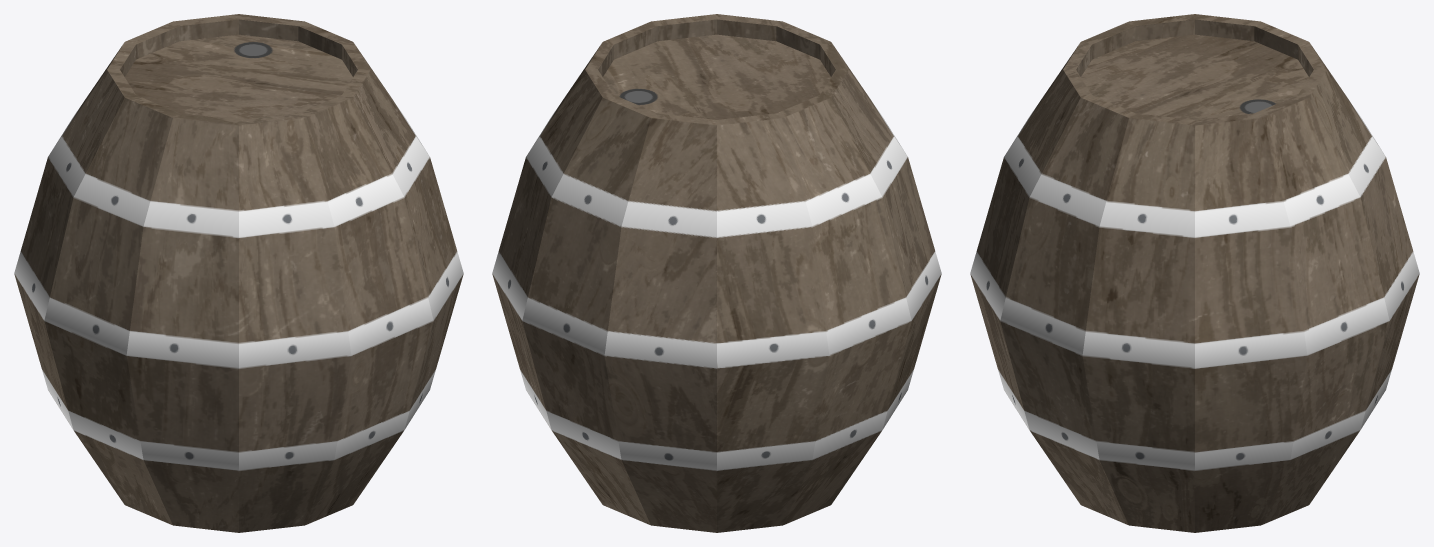
File: barrel.fbx
3 views of the same model, side by side, from view 1: azimuth 30°, elevation 25°; view 2: azimuth 150°, elevation 25°; view 3: azimuth 270°, elevation 25° (orthographic).
Parts seen in each view (by area): view 1: pCylinder1; view 2: pCylinder1; view 3: pCylinder1.
Boxes of the visible parts, box(x1,y1,x2,y2) form: pCylinder1: box(14, 14, 463, 532); pCylinder1: box(492, 14, 941, 532); pCylinder1: box(970, 14, 1419, 532).
Bounding box in the file's own units: 10.78 × 10.78 × 10.78.
1 material, 1 textured.
